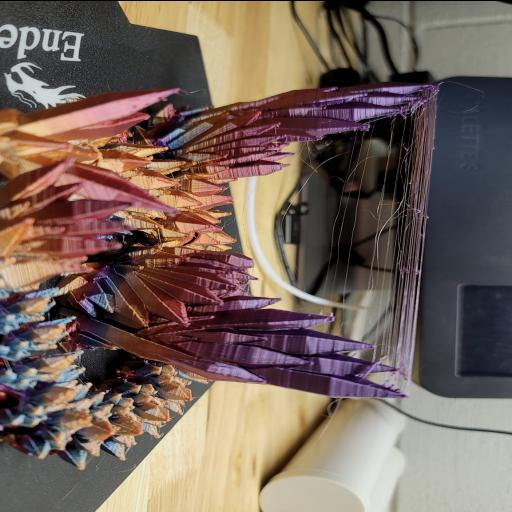stringing: (385, 103, 433, 261), (381, 256, 423, 370), (340, 122, 372, 201)
